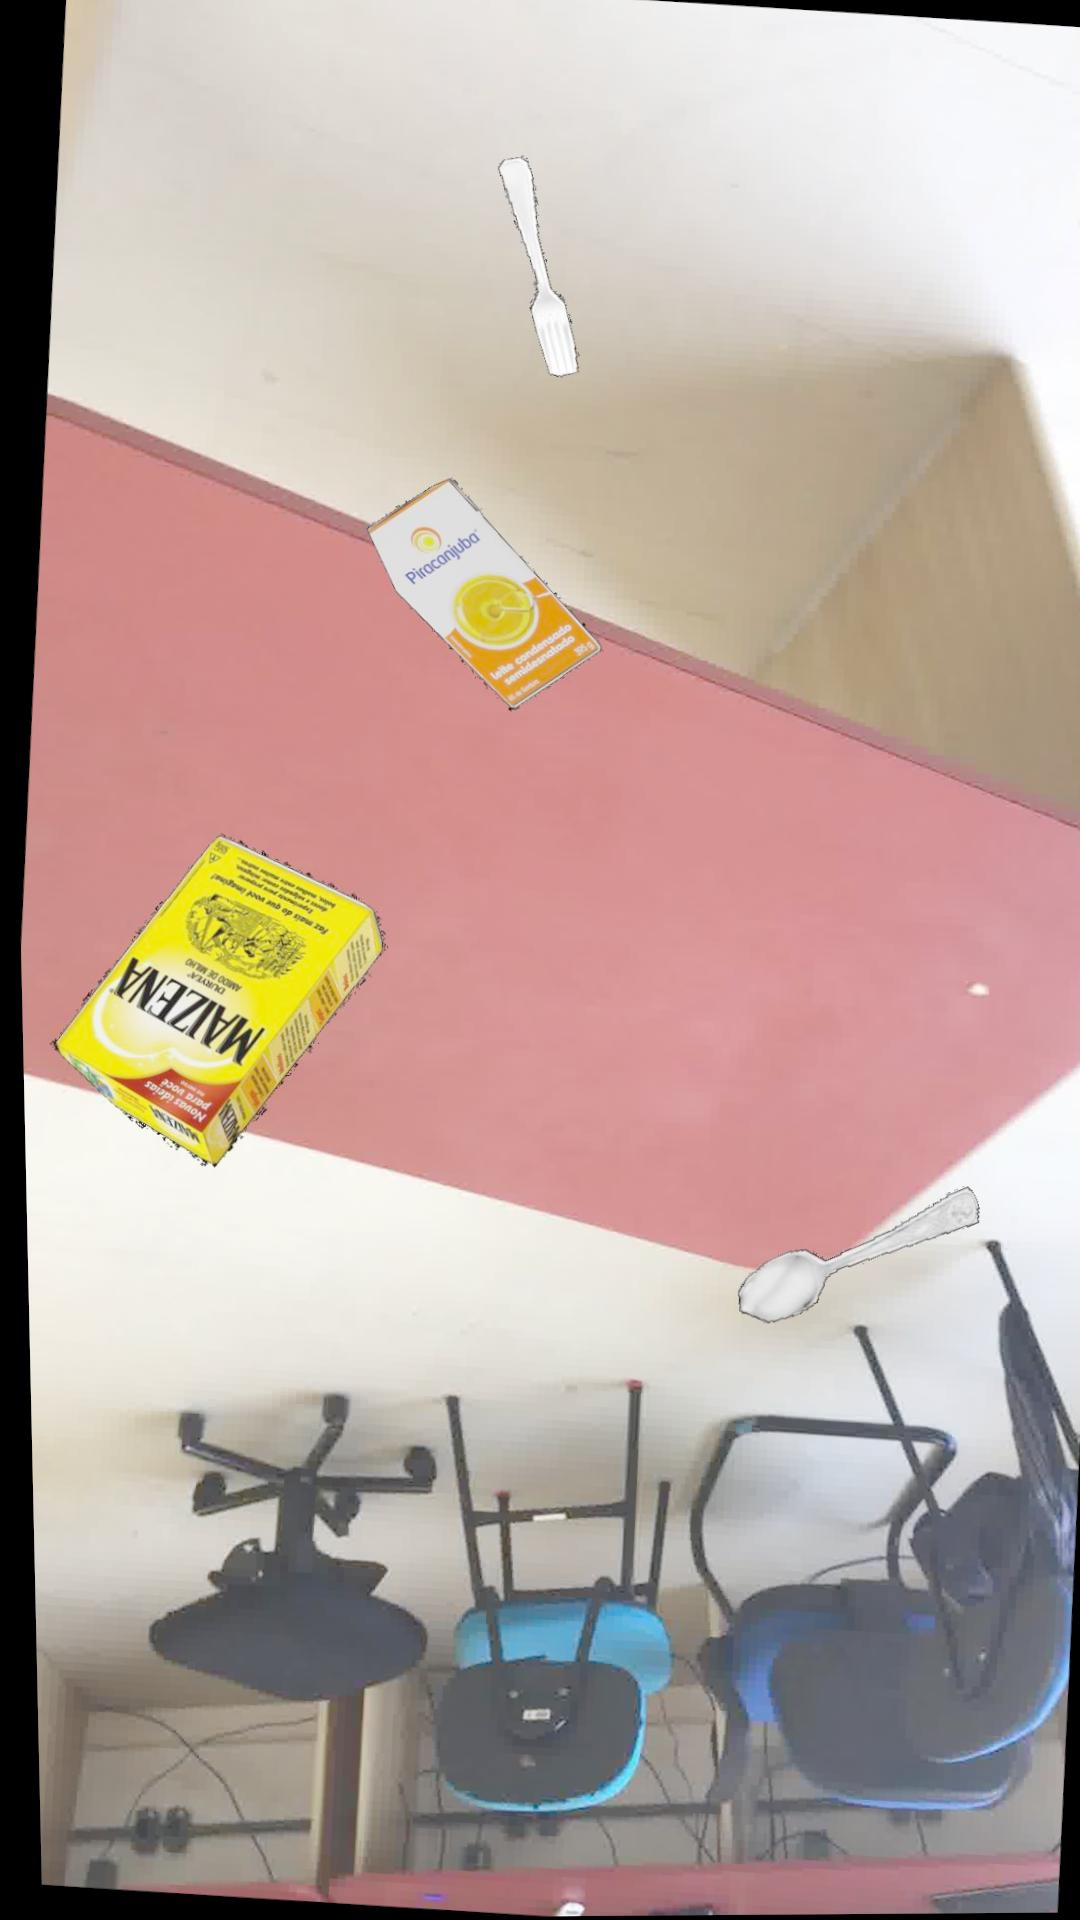fork: (496, 158, 575, 380)
spoon: (731, 1189, 972, 1325)
